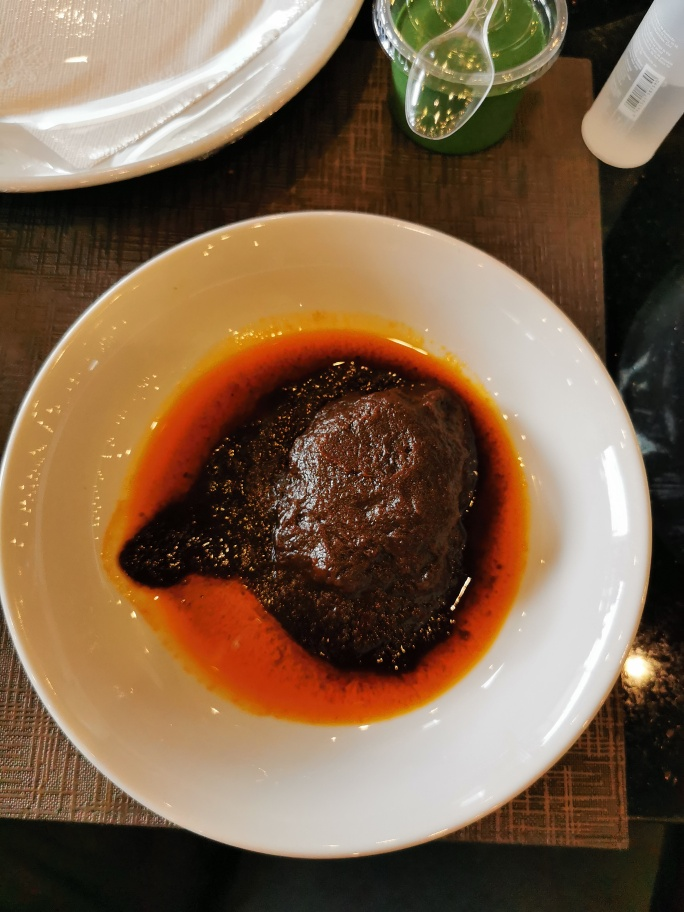rendang: (188, 333, 471, 673)
